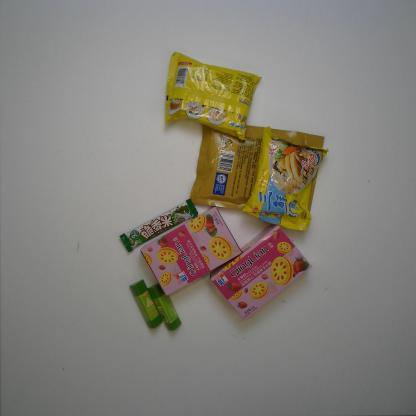Chocolate: (118, 197, 200, 254)
Dessert: (209, 224, 312, 321), (140, 206, 243, 297)
Dried Fruit: (188, 118, 325, 225)
Instant Noodles: (240, 126, 330, 233), (165, 51, 261, 142)
Stationery: (129, 279, 163, 329), (148, 282, 182, 331)
